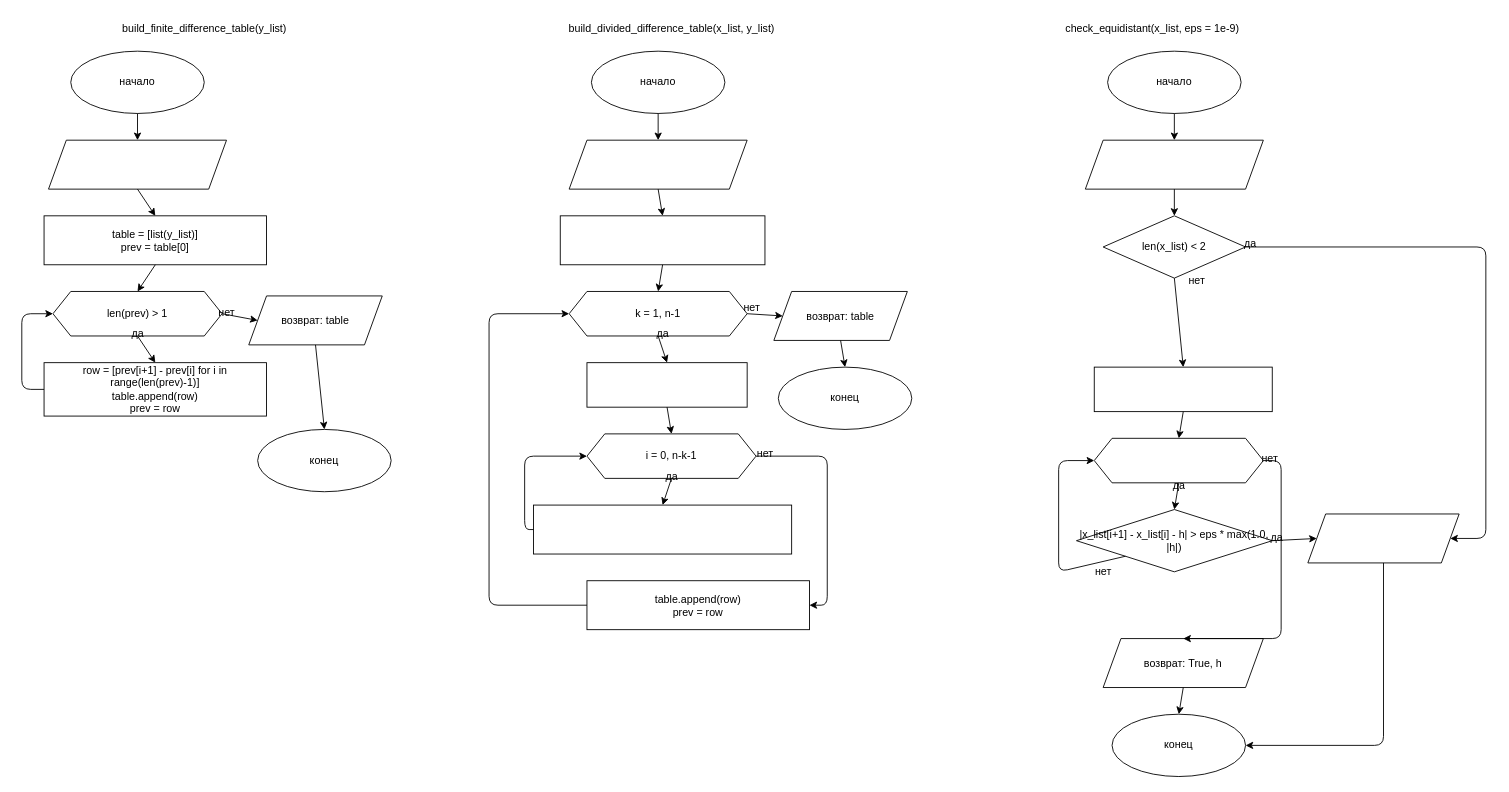
Some shapes in this 1509 by 792 pixel diagram are drawn without their labels. Each missing label, with the centre of its shape:
"h = x_list[1] - x_list[0]" goes at [1182,389].
"i = 1, len(x_list)-2" goes at [1178,460].
"n = len(x_list) table = [[float(y) for y in y_list]] prev = table[0]" goes at [662,240].
"row = []" goes at [666,384].
"row.append((prev[i+1] - prev[i]) / (x_list[i+k] - x_list[i]))" goes at [662,529].
"x_list, eps = 1e-9" goes at [1173,164].
"x_list, y_list" goes at [657,164].
"y_list" goes at [137,164].
"возврат: False, None" goes at [1383,538].
